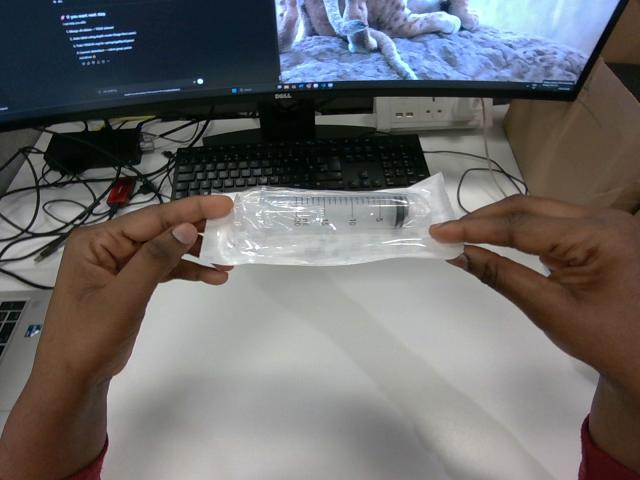syringe: (200, 174, 462, 265)
